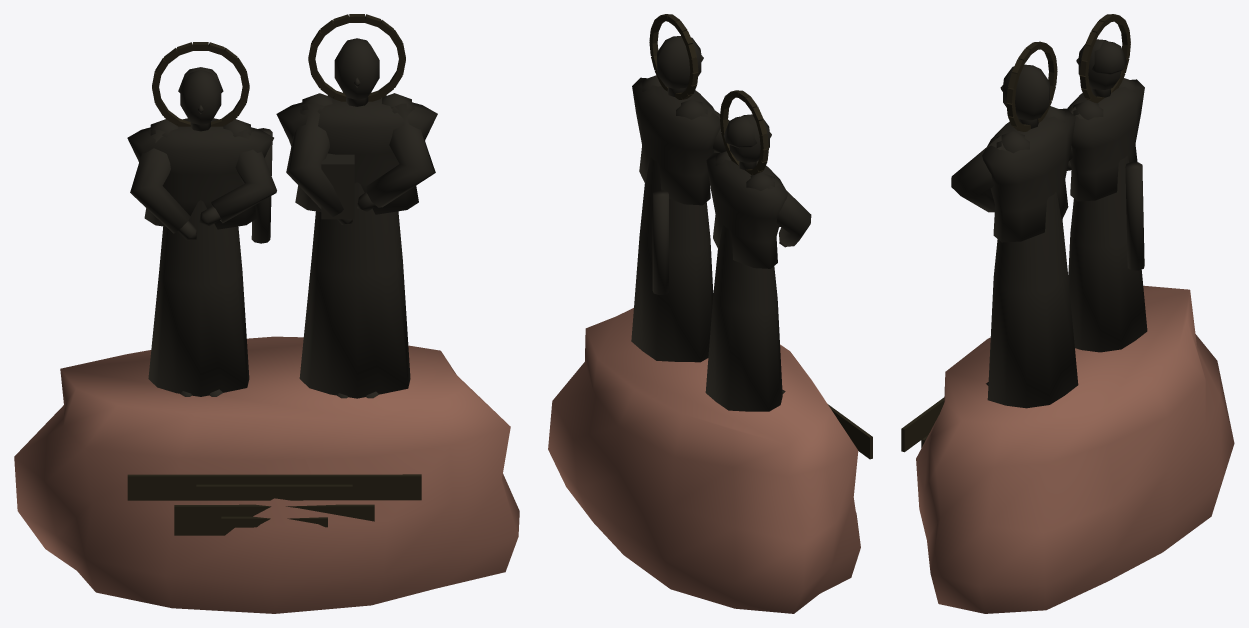
The model's file is kirill_mefodiy.glb.
3 views of the same model, side by side, from view 1: azimuth 30°, elevation 25°; view 2: azimuth 150°, elevation 25°; view 3: azimuth 270°, elevation 25° (orthographic). The views are drawn at different scales.
Visible parts, largest first — view 1: kirill_mefodiy_wall2, kirill_mefodiy_wall3, kirill_mefodiy_metal; view 2: kirill_mefodiy_wall2, kirill_mefodiy_wall3, kirill_mefodiy_metal; view 3: kirill_mefodiy_wall2, kirill_mefodiy_wall3, kirill_mefodiy_metal.
Boxes of the visible parts, x1=… form: kirill_mefodiy_wall2: x1=14, y1=336, x2=519, y2=613; kirill_mefodiy_wall3: x1=127, y1=38, x2=437, y2=398; kirill_mefodiy_metal: x1=127, y1=14, x2=421, y2=535; kirill_mefodiy_wall2: x1=548, y1=308, x2=860, y2=613; kirill_mefodiy_wall3: x1=631, y1=36, x2=811, y2=411; kirill_mefodiy_metal: x1=649, y1=14, x2=872, y2=459; kirill_mefodiy_wall2: x1=916, y1=285, x2=1234, y2=613; kirill_mefodiy_wall3: x1=951, y1=39, x2=1147, y2=408; kirill_mefodiy_metal: x1=901, y1=14, x2=1130, y2=452.
Size of the model in its own units: 3.29 by 4.5 by 2.65.
